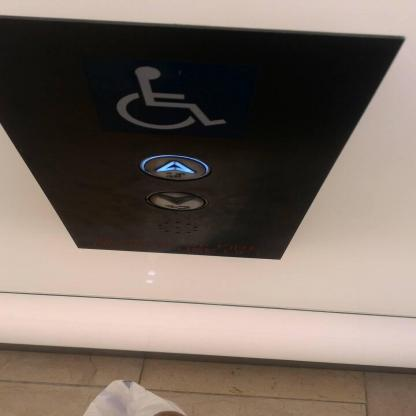CH: (105, 63, 230, 130)
down: (141, 188, 210, 212)
up: (137, 152, 210, 182)
